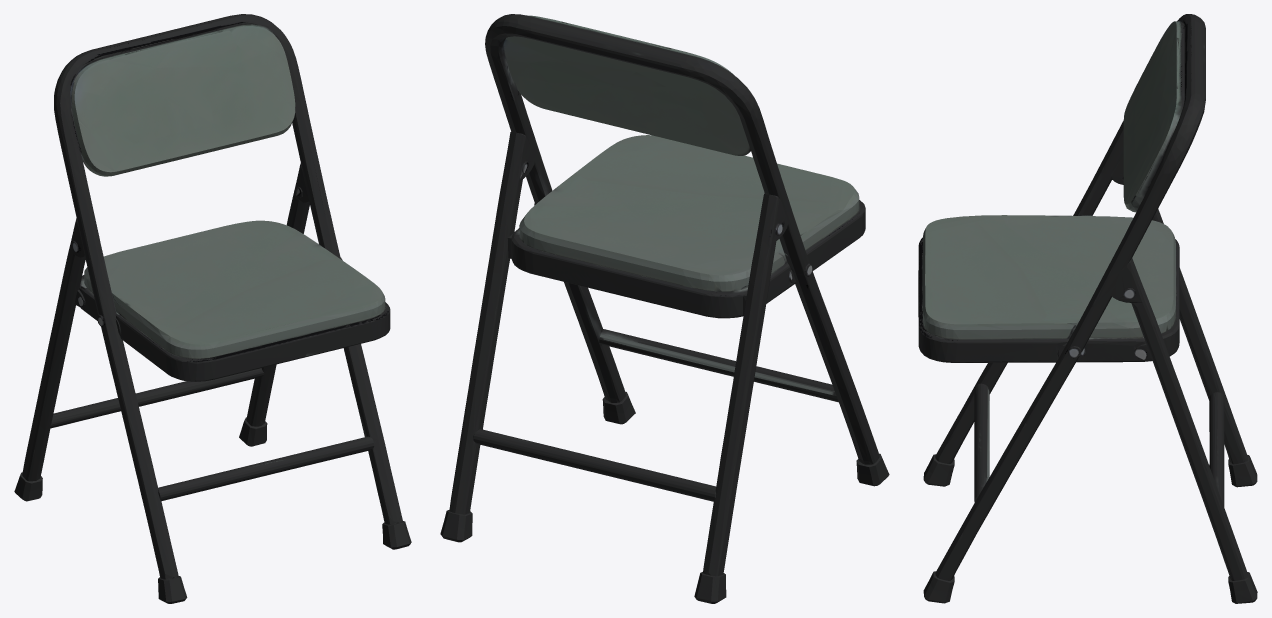
The model's file is folding_chair.glb.
3 renders of one model, left to right at view 1: azimuth 30°, elevation 25°; view 2: azimuth 150°, elevation 25°; view 3: azimuth 270°, elevation 25°, orthographic. The views are drawn at different scales.
Visible parts, largest first — view 1: folding_chair; view 2: folding_chair; view 3: folding_chair.
Part boxes in pixels (bbox=[...]): folding_chair: bbox=[14, 14, 411, 603]; folding_chair: bbox=[440, 14, 889, 603]; folding_chair: bbox=[918, 14, 1257, 603].
Size of the model in its own units: 0.4525 by 0.8 by 0.507.
1 material, 1 textured.
